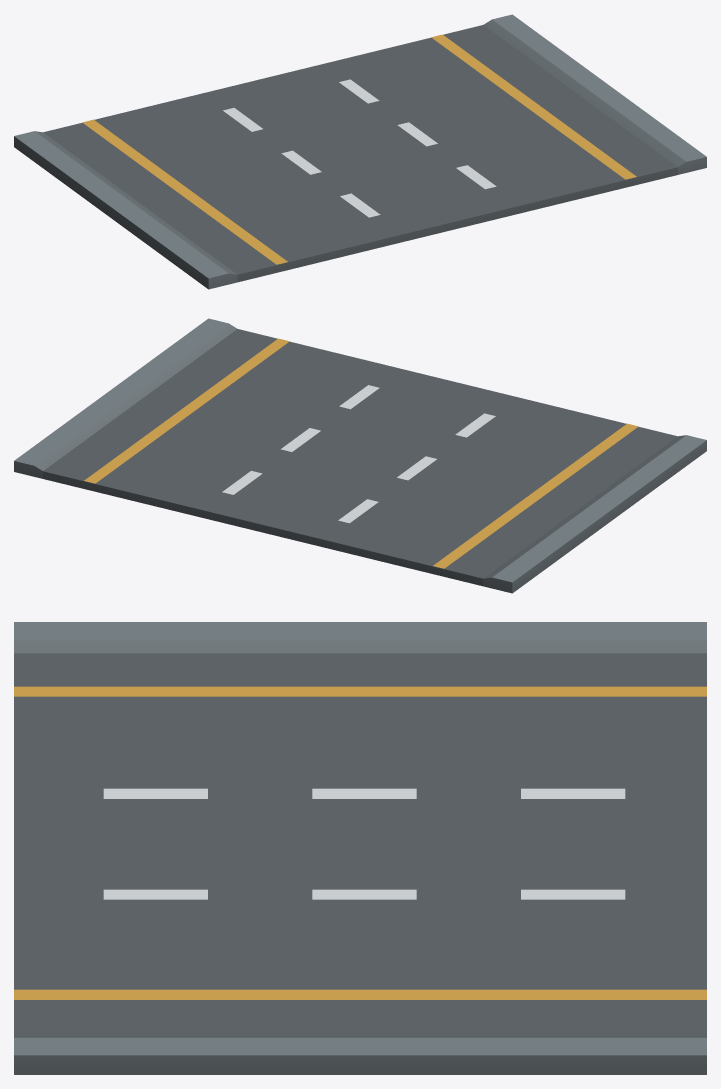
The model's file is ShorterRoad2.glb.
The picture shows the model from 3 angles, top to bottom: view 1: azimuth 30°, elevation 25°; view 2: azimuth 150°, elevation 25°; view 3: azimuth 270°, elevation 25°; orthographic projection. The views are drawn at different scales.
Parts seen in each view (by area): view 1: road_straight_Cube.952; view 2: road_straight_Cube.952; view 3: road_straight_Cube.952.
Boxes of the visible parts, box(x1,y1,x2,y2) form: road_straight_Cube.952: box(14, 14, 706, 289); road_straight_Cube.952: box(14, 318, 706, 593); road_straight_Cube.952: box(14, 622, 706, 1074).
Size of the model in its own units: 4.72 by 0.1 by 3.19.
Materials: 1 (1 with a texture image).
